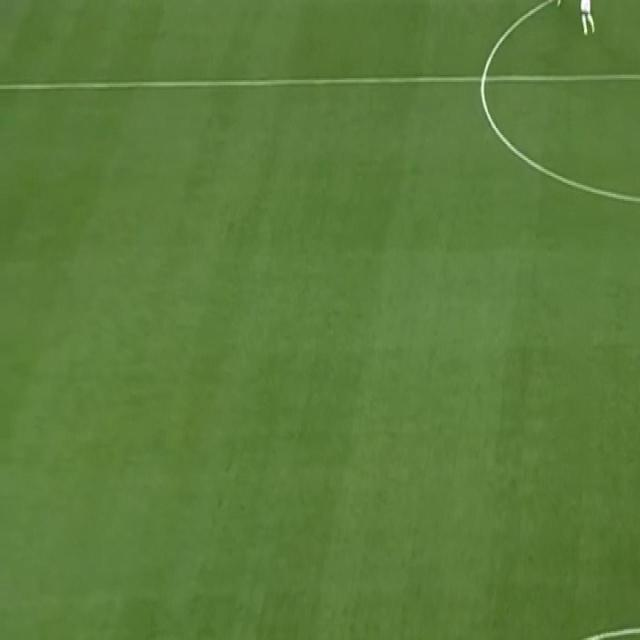player-white: (577, 0, 595, 36), (541, 0, 563, 7), (639, 489, 640, 603)
